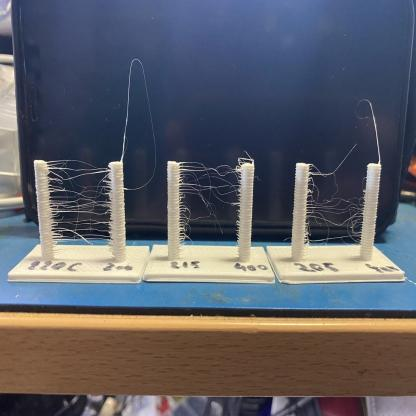fail: (50, 162, 112, 246), (306, 163, 366, 246), (185, 155, 239, 237)
